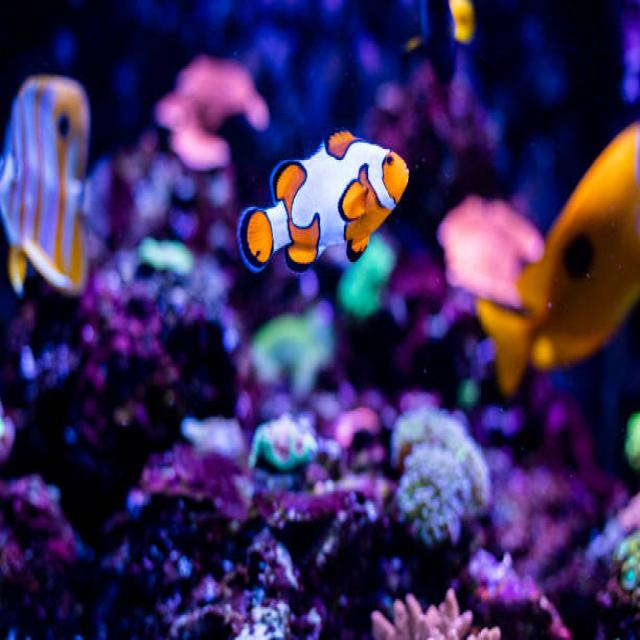ClownFish: (241, 127, 411, 278)
